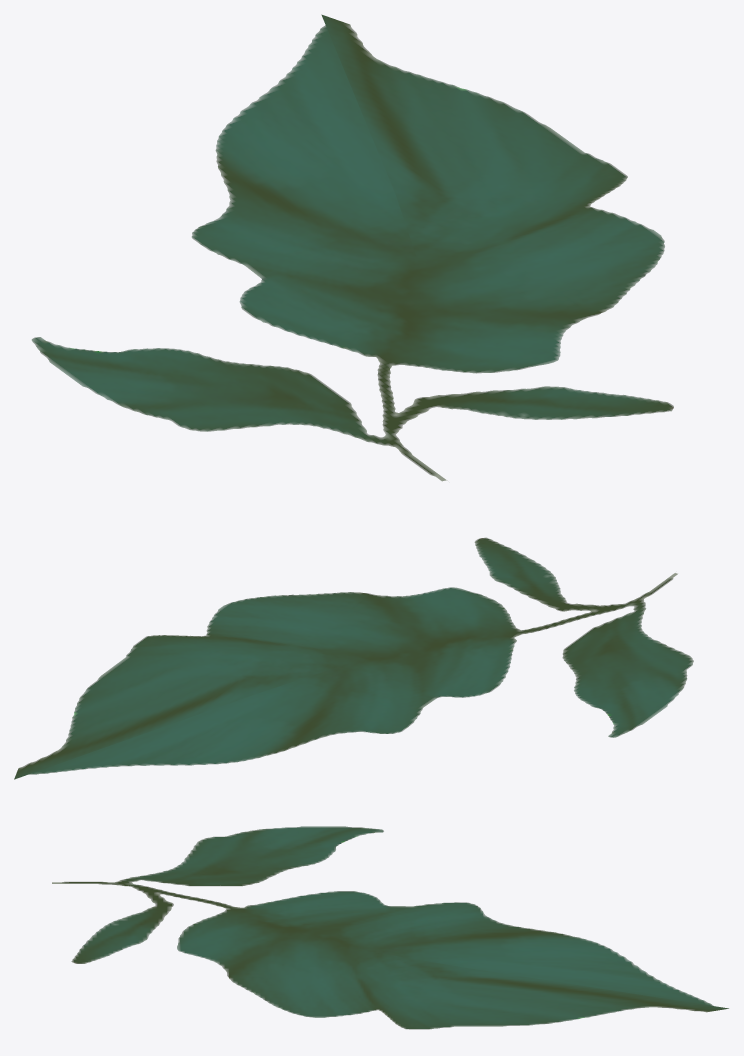
The model's file is SM_EggplantGreen.fbx.
The picture shows the model from 3 angles, top to bottom: view 1: azimuth 30°, elevation 25°; view 2: azimuth 150°, elevation 25°; view 3: azimuth 270°, elevation 25°; orthographic projection. The views are drawn at different scales.
Visible parts, largest first — view 1: Cylinder.005; view 2: Cylinder.005; view 3: Cylinder.005.
Part boxes in pixels (x1=…): Cylinder.005: x1=31, y1=14, x2=673, y2=481; Cylinder.005: x1=14, y1=537, x2=693, y2=779; Cylinder.005: x1=52, y1=826, x2=728, y2=1029.
Bounding box in the file's own units: 80.88 × 4.47e-06 × 105.
